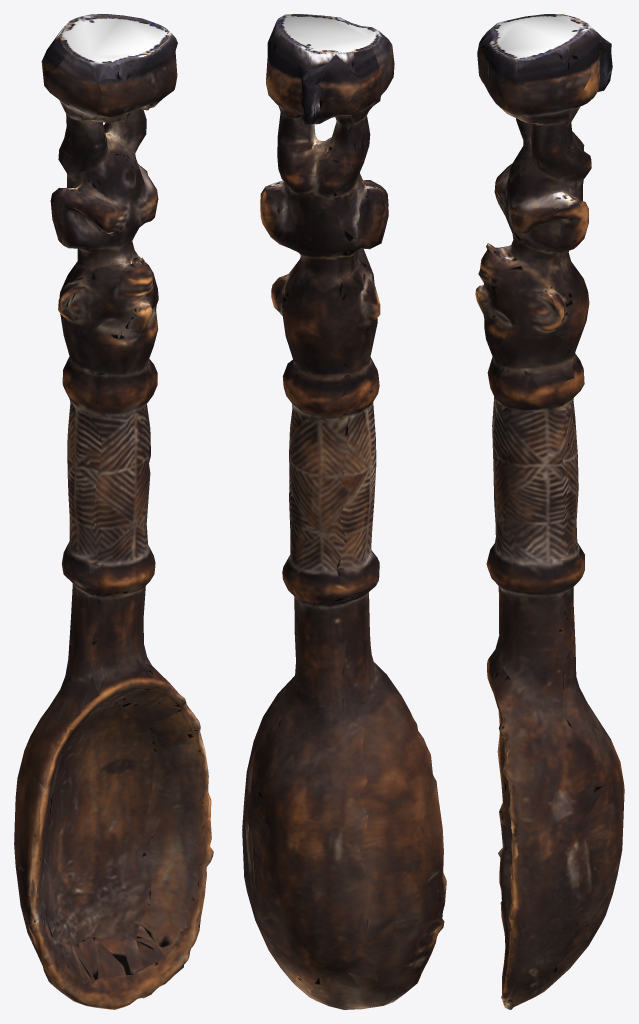
Rendered from Spoon5.fbx.
3 renders of one model, left to right at view 1: azimuth 30°, elevation 25°; view 2: azimuth 150°, elevation 25°; view 3: azimuth 270°, elevation 25°, orthographic. The views are drawn at different scales.
Parts seen in each view (by area): view 1: Spoon5; view 2: Spoon5; view 3: Spoon5.
Boxes of the visible parts, x1=… form: Spoon5: x1=14, y1=14, x2=213, y2=1009; Spoon5: x1=242, y1=14, x2=446, y2=1009; Spoon5: x1=475, y1=14, x2=624, y2=1009.
Bounding box in the file's own units: 46.79 × 227 × 31.55.
